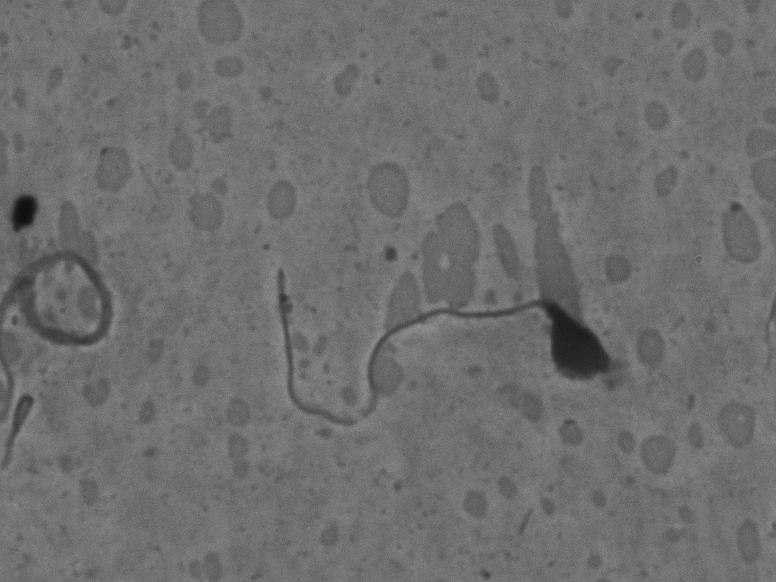Abnormal: (260, 222, 645, 460)
